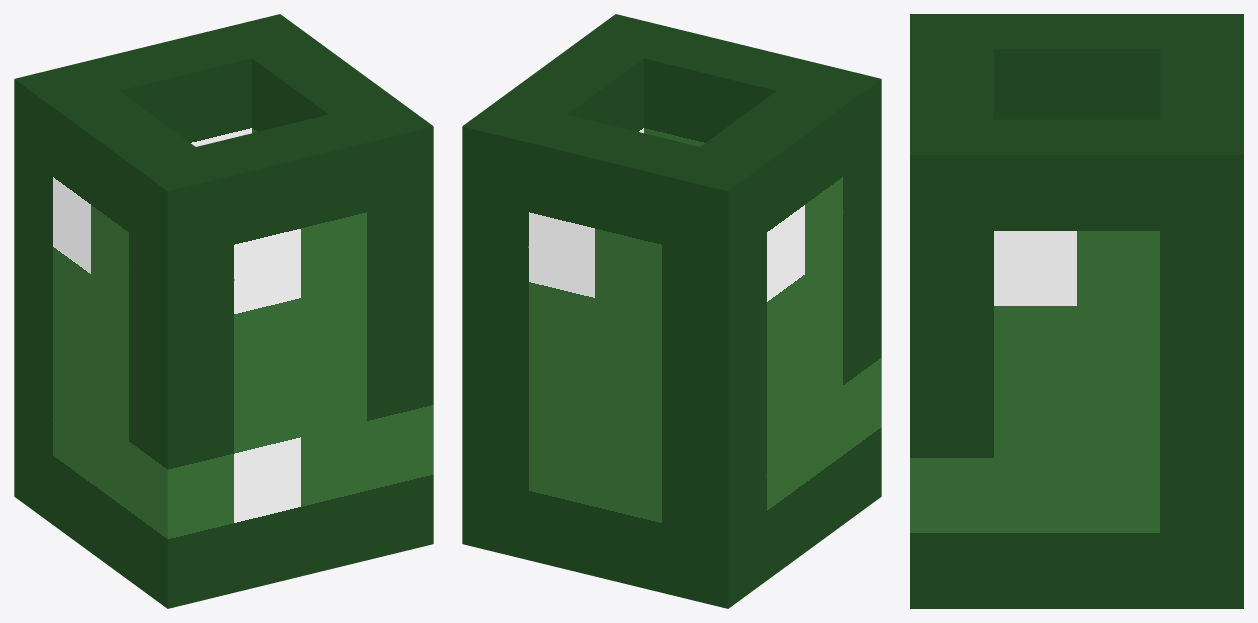
Rendered from 绿色皮革靴子.gltf.
The picture shows the model from 3 angles, left to right: view 1: azimuth 30°, elevation 25°; view 2: azimuth 150°, elevation 25°; view 3: azimuth 270°, elevation 25°; orthographic projection. The views are drawn at different scales.
Parts seen in each view (by area): view 1: Object; view 2: Object; view 3: Object.
Part boxes in pixels (x1,y1,x2,y2): Object: (14,14,433,608); Object: (462,14,881,608); Object: (910,14,1243,608).
Bounding box in the file's own units: 4 × 6 × 4.
1 material, 1 textured.
